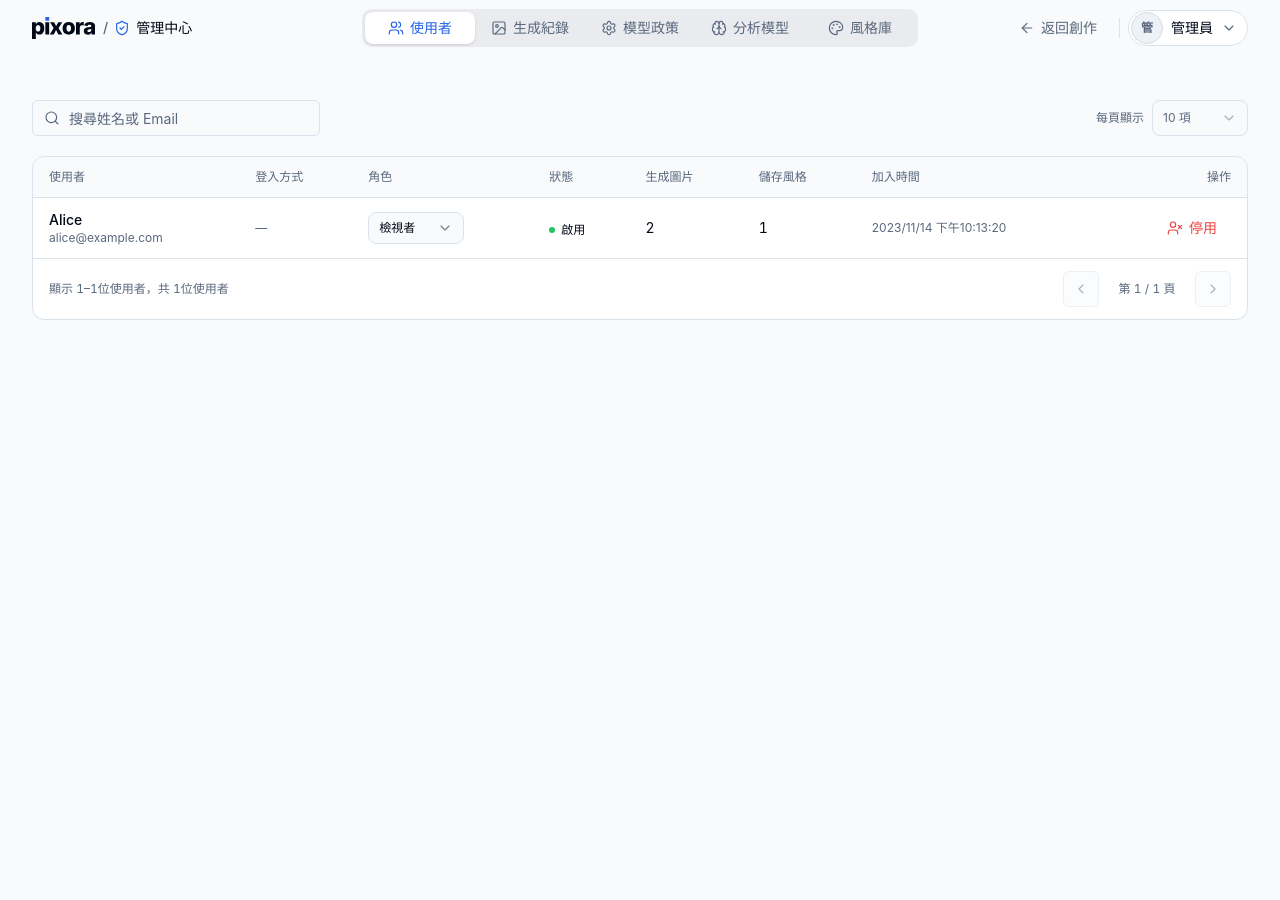
it: AdminPanel section loading › asks for confirmation in a dialog before deactivating a user
The width and height of the screenshot is (1280, 900).
Expected: the text "alice@example.com" is shown, [49,230,163,245]
Click the button with aria-label "停用 Alice": (1192, 228) [1153,210,1231,246]
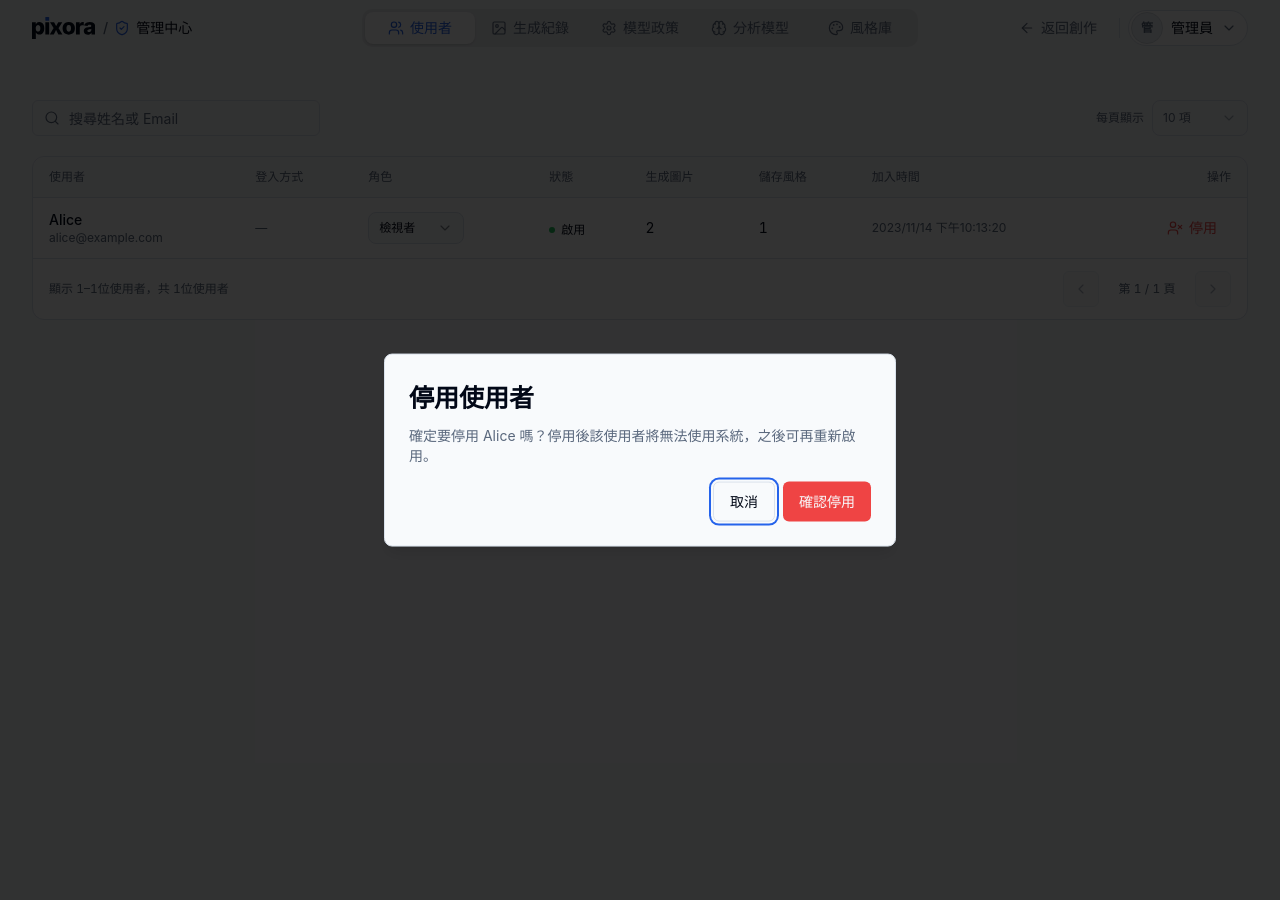
Now the dialog shows "確定要停用 Alice 嗎？", box [409,426,856,463]
Click the button "確認停用": (827, 501) [783,481,871,521]
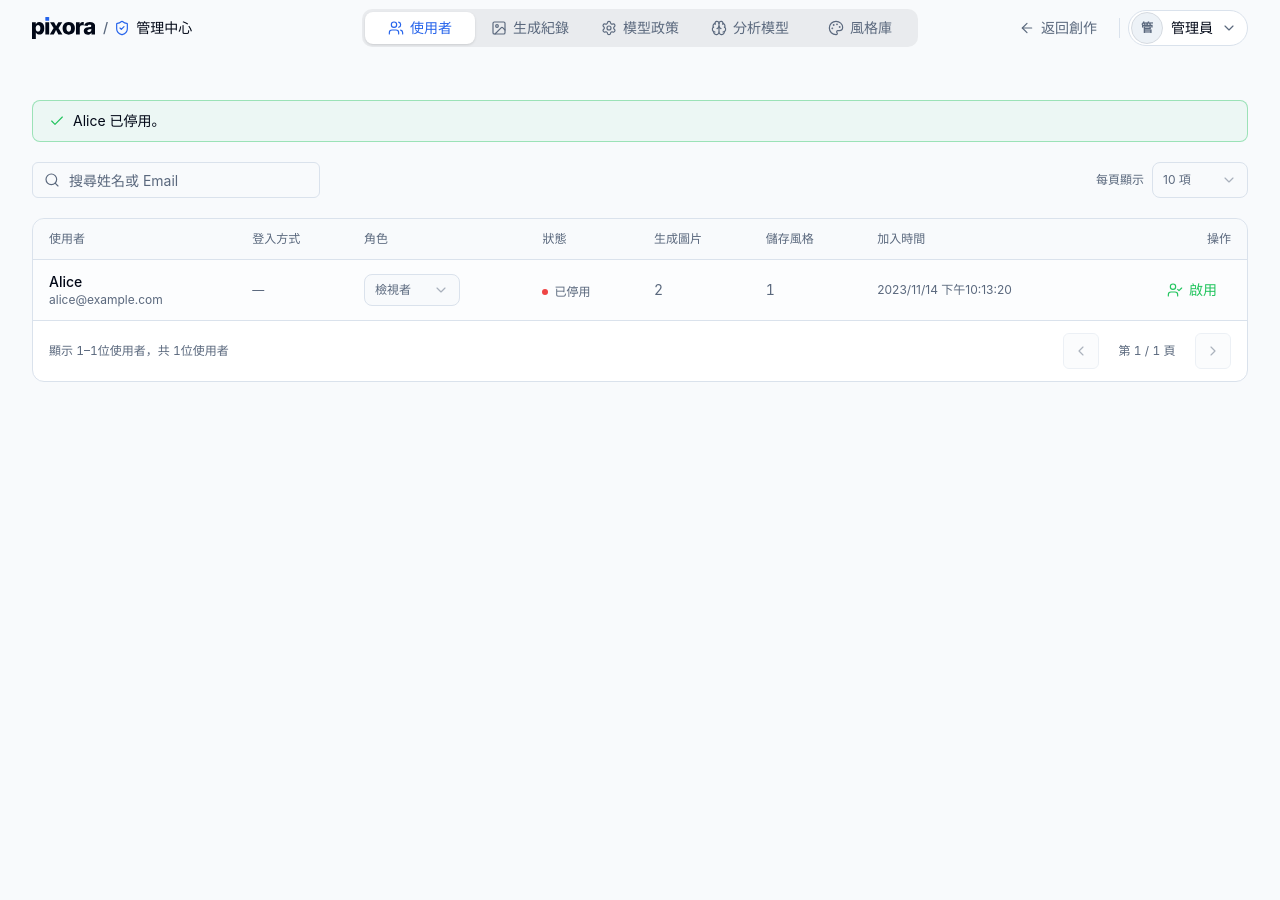
Now the text "Alice 已停用。" is shown, box [73,111,166,131]
